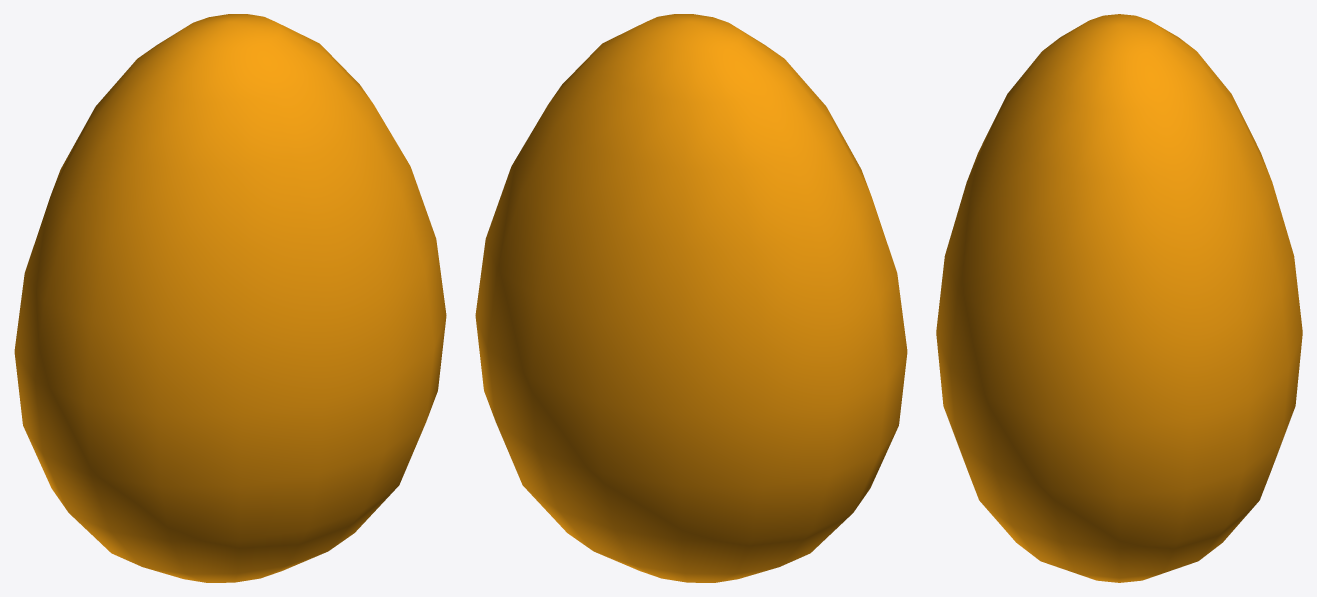
Rendered from pousse.glb.
The picture shows the model from 3 angles, left to right: view 1: azimuth 30°, elevation 25°; view 2: azimuth 150°, elevation 25°; view 3: azimuth 270°, elevation 25°; orthographic projection.
Visible parts, largest first — view 1: pousse; view 2: pousse; view 3: pousse.
Boxes of the visible parts, x1=… form: pousse: x1=14, y1=14, x2=446, y2=582; pousse: x1=475, y1=14, x2=907, y2=582; pousse: x1=936, y1=14, x2=1302, y2=582.
Bounding box in the file's own units: 0.8617 × 1.15 × 0.7096.
